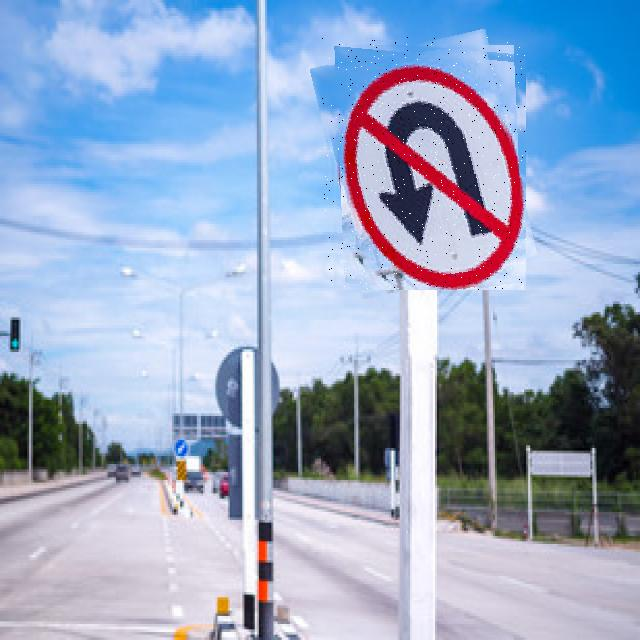no u turn: (322, 37, 526, 290)
